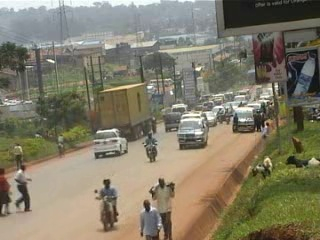Car: (92, 123, 130, 157), (161, 109, 185, 133), (202, 108, 217, 127), (199, 101, 216, 111)
Motorcycle: (93, 176, 119, 232), (140, 128, 161, 163), (214, 106, 225, 124), (223, 106, 231, 125)
